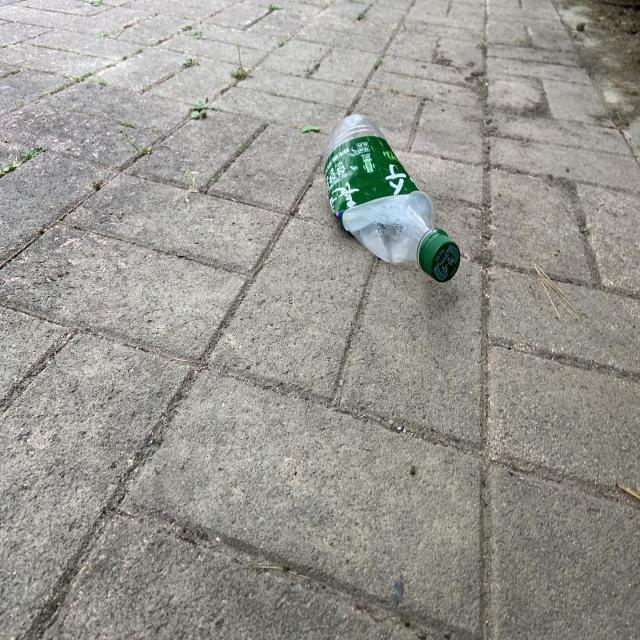plastic: (323, 114, 461, 282)
